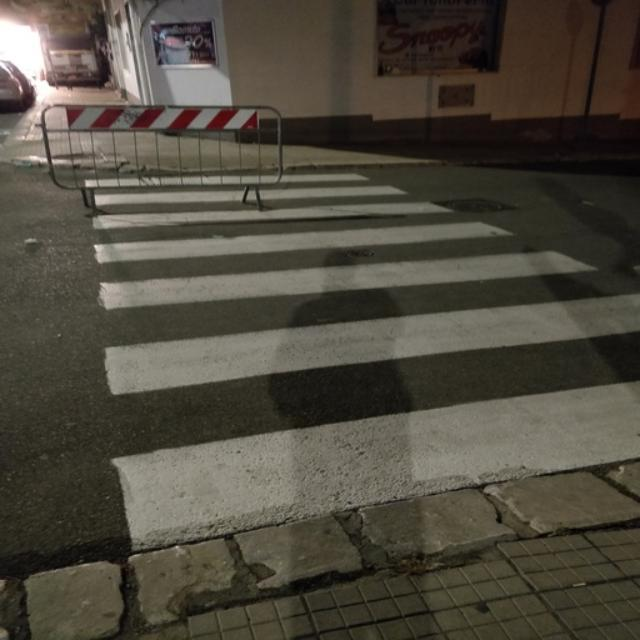sidewalk: (84, 170, 640, 547)
